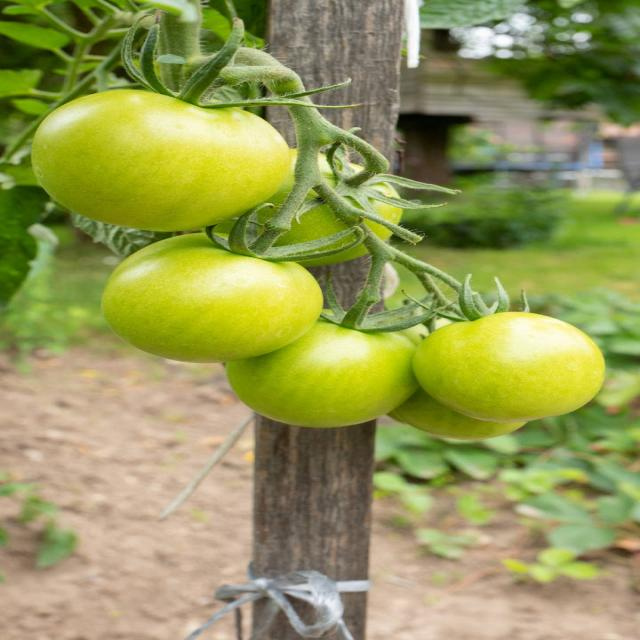yesil: (30, 80, 631, 450)
